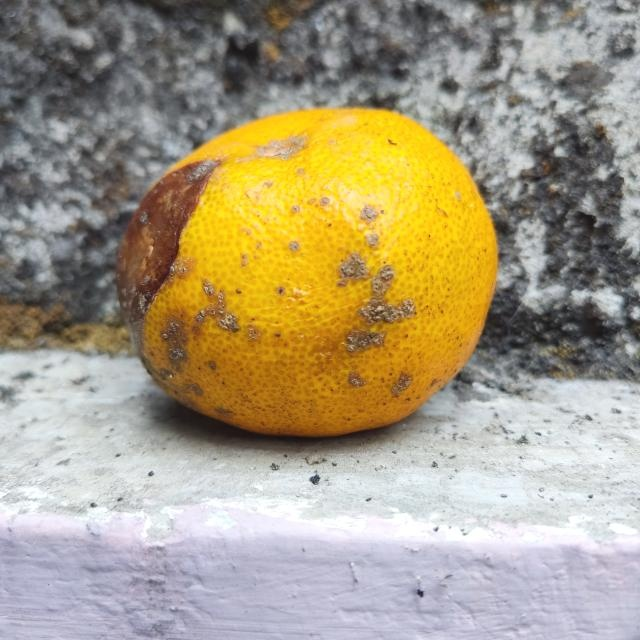agrume: (117, 106, 499, 437)
